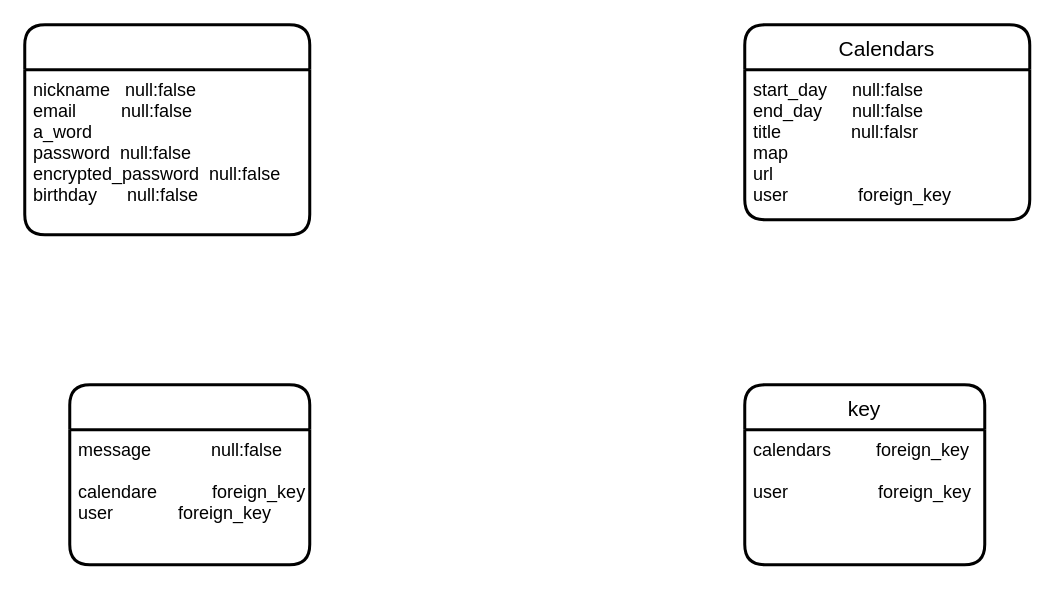
The diagram is 1055 pixels wide and 590 high, and some of its shapes have lost their labels. Each missing label, with the box of its shape:
Coments: (68, 382, 310, 566)
User: (22, 22, 310, 236)
